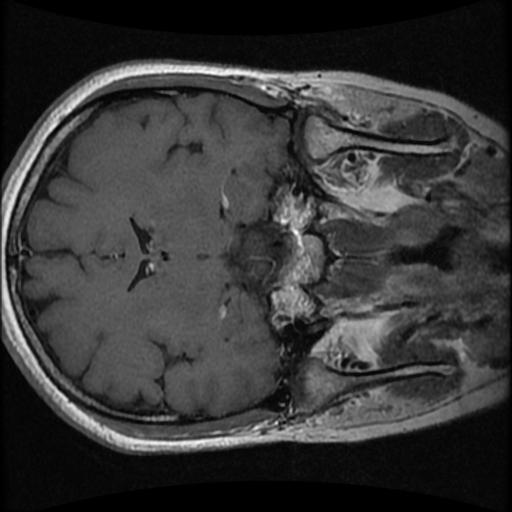pituitary tumour: (266, 181, 327, 327)
